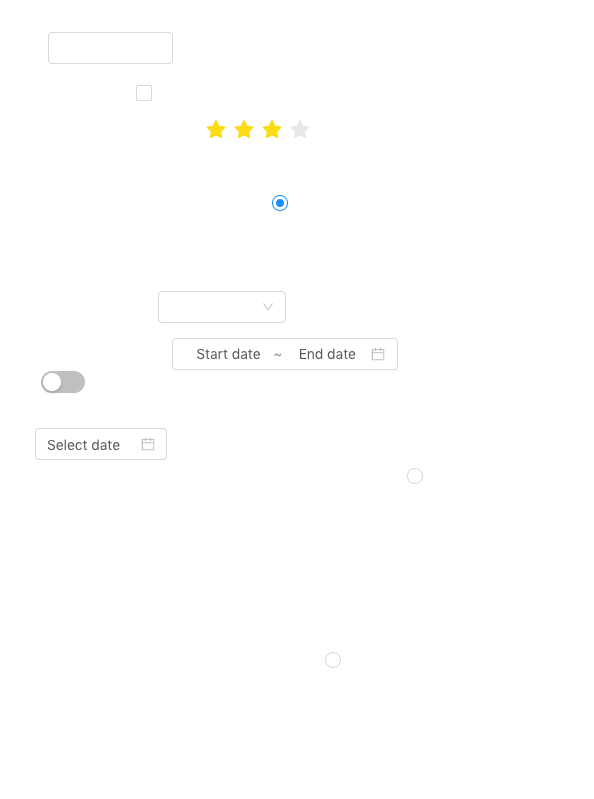Checkbox: (136, 82, 152, 103)
DatePicker: (35, 428, 167, 460)
Input: (48, 32, 173, 64)
Radio: (407, 465, 423, 485), (325, 649, 341, 669), (272, 192, 288, 212)
RangePicker: (172, 338, 398, 370)
Rate: (206, 113, 326, 145)
Select: (158, 291, 286, 323)
Switch: (41, 370, 85, 394)
